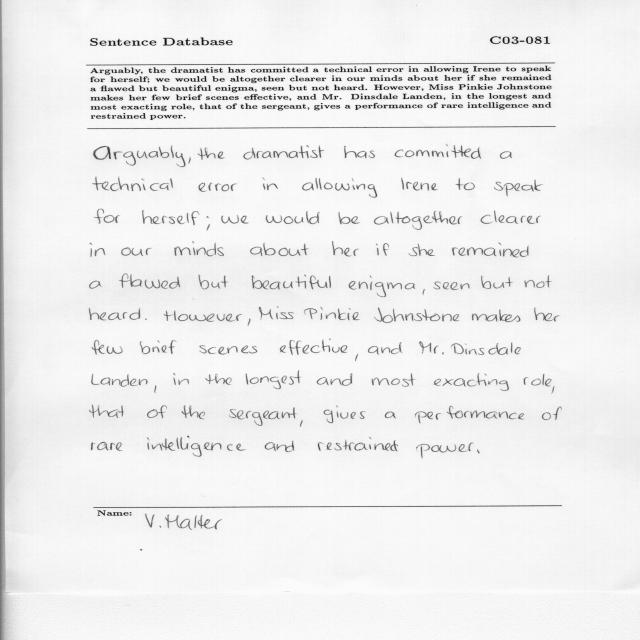word: (147, 436, 246, 457), (94, 145, 186, 167), (415, 406, 524, 423), (374, 211, 462, 230), (302, 178, 377, 197), (349, 276, 415, 297), (374, 307, 459, 323), (434, 373, 509, 391), (394, 144, 481, 159), (229, 407, 296, 426), (243, 145, 324, 160), (252, 275, 331, 290), (452, 243, 528, 258), (93, 177, 173, 191), (318, 437, 398, 451), (280, 339, 347, 355), (246, 371, 300, 390), (119, 274, 180, 289), (451, 342, 521, 355), (416, 443, 474, 458), (164, 311, 242, 322), (142, 210, 199, 225), (481, 210, 541, 224), (494, 180, 542, 197), (250, 243, 308, 256), (174, 242, 224, 257), (304, 307, 360, 320), (92, 374, 148, 387), (324, 406, 366, 423), (266, 211, 320, 224), (472, 310, 520, 323), (90, 308, 141, 320), (372, 373, 415, 387), (200, 346, 258, 355), (140, 340, 176, 354), (401, 178, 438, 191), (317, 373, 353, 386), (92, 340, 123, 355), (259, 307, 294, 320), (368, 342, 402, 355), (90, 405, 124, 418), (481, 276, 513, 289), (199, 275, 228, 289), (332, 242, 359, 257), (344, 146, 375, 158), (94, 209, 120, 223), (534, 308, 560, 322), (525, 275, 552, 288), (199, 183, 237, 192), (524, 374, 552, 386), (181, 405, 205, 419), (419, 342, 444, 355), (265, 441, 294, 452), (198, 148, 224, 160), (409, 244, 435, 256), (205, 374, 232, 385), (434, 282, 470, 290), (121, 247, 152, 256), (92, 442, 122, 451), (338, 212, 360, 224), (147, 406, 167, 419), (542, 407, 562, 420), (221, 215, 249, 224), (455, 179, 475, 190), (90, 243, 105, 257), (262, 178, 278, 190), (173, 373, 189, 385), (376, 243, 389, 256), (500, 151, 512, 159), (90, 281, 102, 289), (385, 412, 396, 419), (206, 216, 210, 231), (188, 157, 191, 164), (248, 319, 251, 326), (355, 354, 358, 361), (552, 386, 555, 393), (300, 420, 303, 427), (154, 385, 156, 393), (423, 289, 425, 295), (477, 450, 480, 454), (145, 318, 147, 320)
